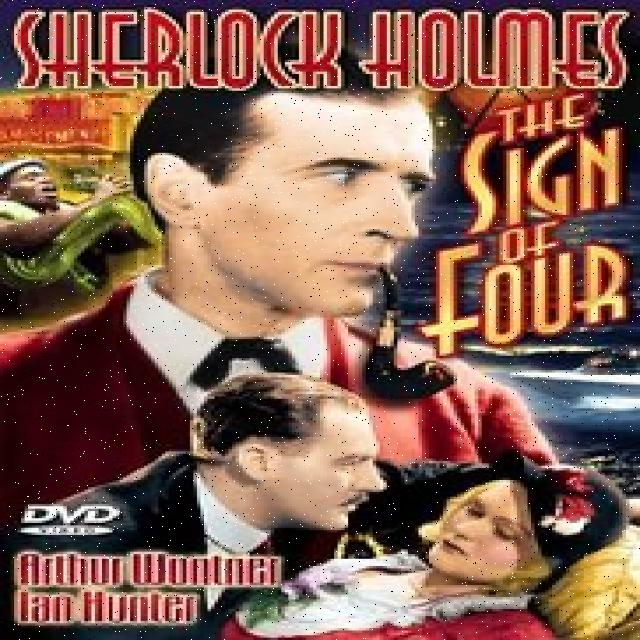movie-judul: (8, 4, 640, 90)
picture: (12, 92, 620, 630)
